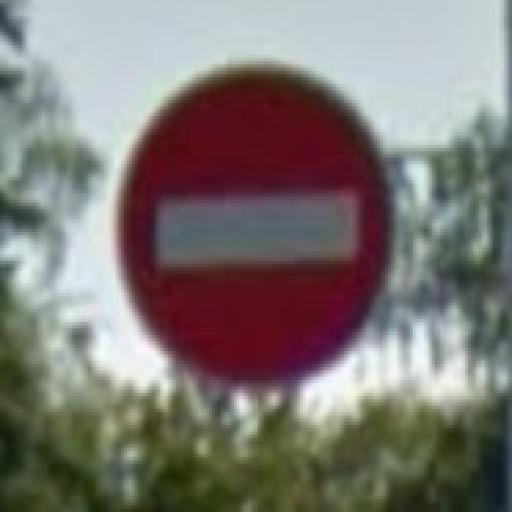traffic_sign: (117, 62, 398, 391)
